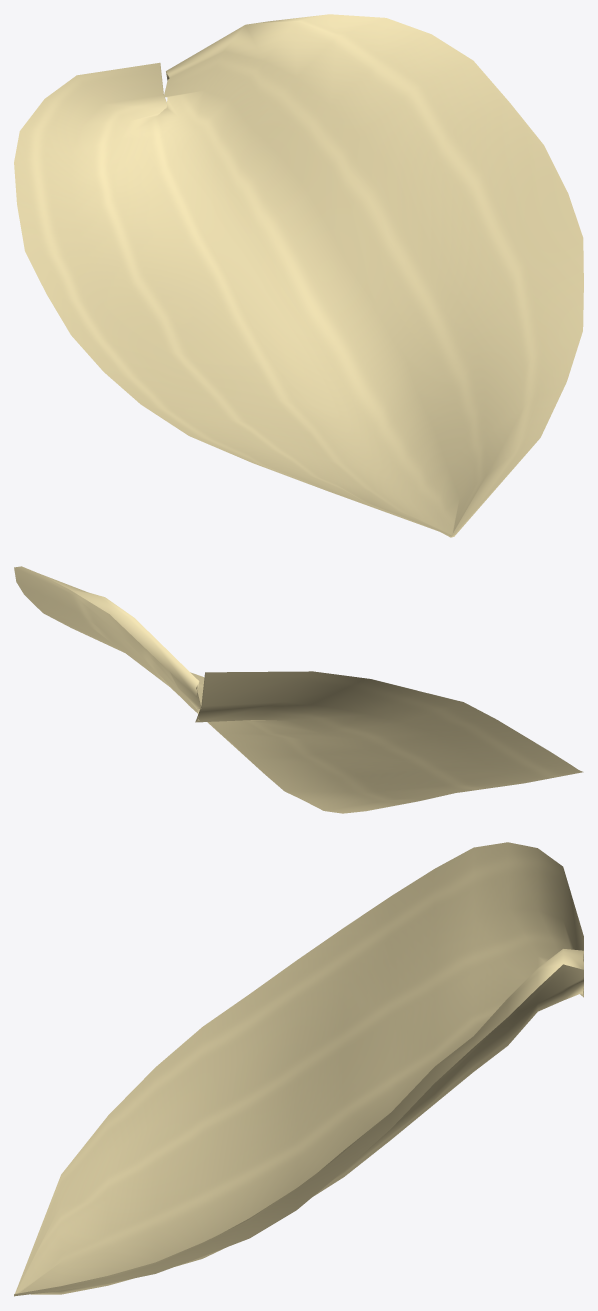
Rendered from petal_14_folded.glb.
The picture shows the model from 3 angles, top to bottom: view 1: azimuth 30°, elevation 25°; view 2: azimuth 150°, elevation 25°; view 3: azimuth 270°, elevation 25°; orthographic projection. The views are drawn at different scales.
Parts seen in each view (by area): view 1: petal_14_folded; view 2: petal_14_folded; view 3: petal_14_folded.
Part boxes in pixels (x1,y1,x2,y2): petal_14_folded: [14, 14, 583, 537]; petal_14_folded: [14, 566, 583, 813]; petal_14_folded: [14, 842, 583, 1296].
Bounding box in the file's own units: 0.0913 × 0.0569 × 0.0797.
1 material, 1 textured.
